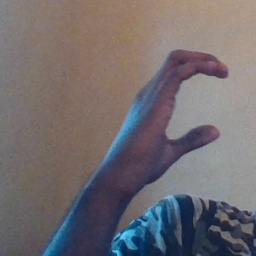C: (132, 45, 236, 166)
